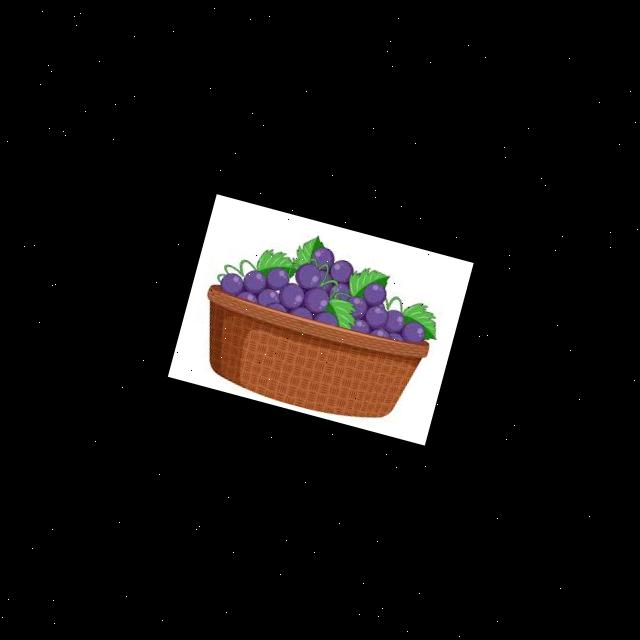grape: (213, 222, 444, 350)
